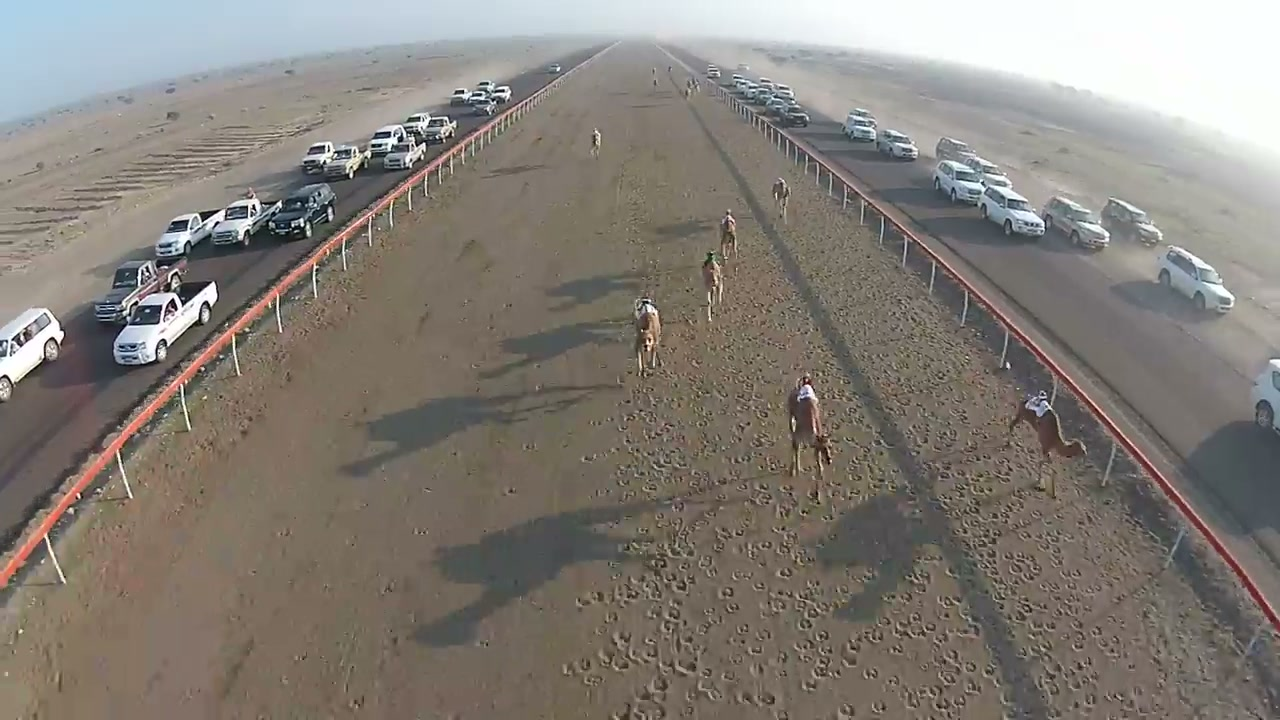animal_footprint: (782, 207, 1131, 709), (608, 369, 817, 706), (768, 477, 884, 702), (699, 317, 777, 460)
